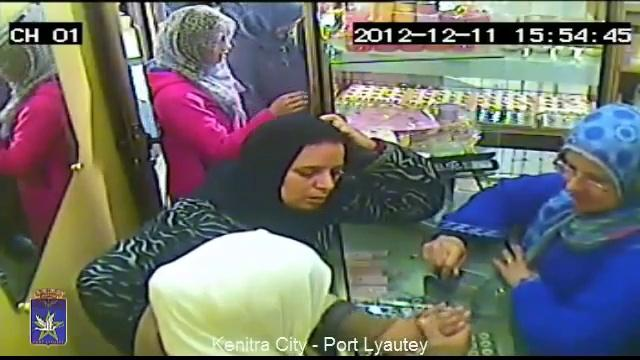Product: (415, 301, 444, 339)
Product-Picked: (137, 220, 489, 360)
Regular: (466, 78, 640, 360), (131, 0, 259, 184), (247, 109, 378, 231), (205, 0, 304, 106)
